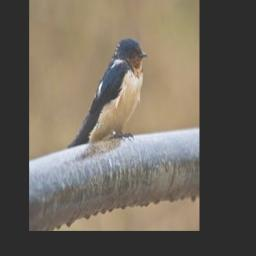Swallow: (67, 37, 148, 149)
